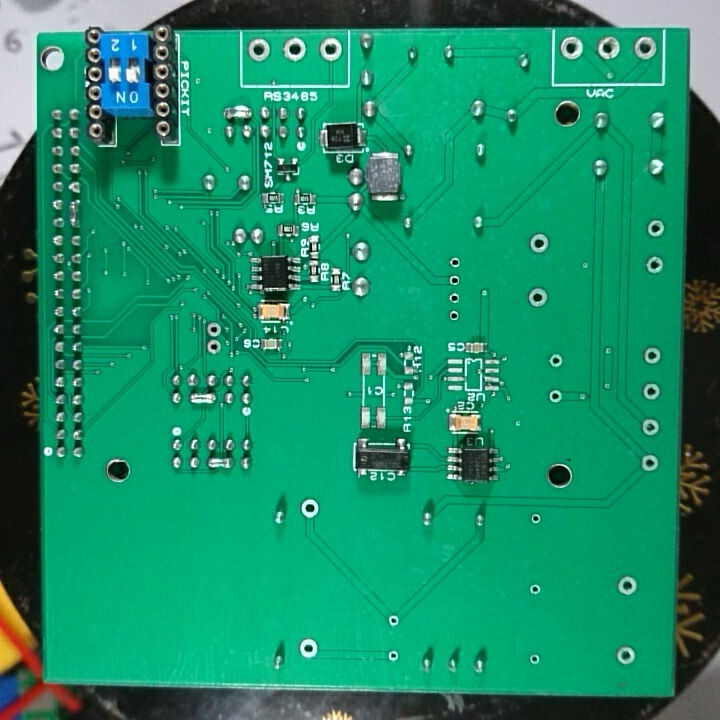F: (246, 35, 274, 68), (595, 34, 623, 62), (559, 33, 586, 62), (282, 34, 309, 63), (316, 35, 344, 62), (632, 33, 658, 60), (298, 496, 322, 524), (526, 284, 549, 312), (615, 643, 637, 672), (615, 574, 640, 598), (638, 380, 662, 405), (526, 231, 551, 255), (641, 342, 663, 369), (640, 451, 662, 476), (644, 253, 666, 278), (298, 637, 321, 660), (639, 418, 662, 439), (646, 218, 667, 240), (547, 352, 566, 372), (203, 338, 223, 357), (205, 319, 224, 338), (547, 386, 563, 406), (447, 272, 463, 289), (529, 581, 543, 600), (529, 510, 543, 529), (387, 612, 400, 632), (385, 649, 403, 663), (446, 290, 460, 306), (529, 652, 542, 669), (449, 255, 461, 271), (448, 309, 460, 324)
P: (222, 102, 255, 122), (65, 198, 86, 229), (189, 390, 218, 409), (206, 456, 234, 475)
